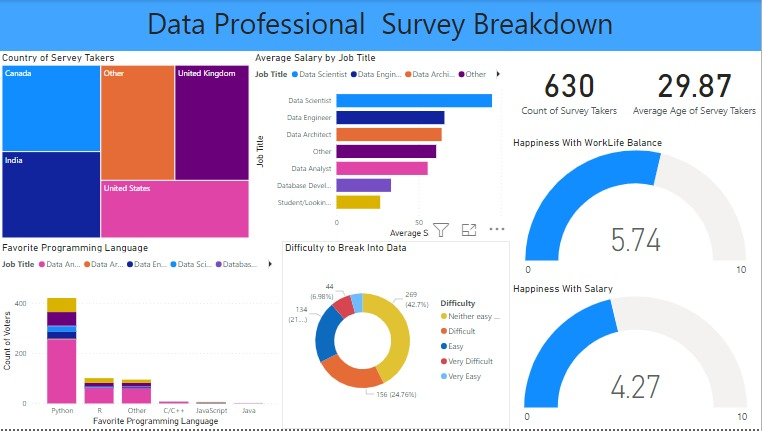

This screenshot's page, from the dashboard's own definition file:
{"tool":"powerbi","page":{"name":"Page 1","canvas":[1280,720],"ordinal":0},"visuals":[{"type":"textbox","box":[0,0,1280,85.7],"z":0},{"type":"card","fields":{"Values":["Count(Data Professional Survey.Unique ID)"]},"box":[858.4,85.7,198.2,122.6],"z":1000},{"type":"card","fields":{"Values":["Avg(Data Professional Survey.Q10 - Current Age)"]},"box":[1056.6,85.7,223.4,122.6],"z":2000},{"type":"barChart","title":"Average Salary by Job Title","fields":{"Category":["Data Professional Survey.Q1 - Which Title Best Fits your Current Role?.1"],"Y":["Avg(Data Professional Survey.Average Salary)"],"Series":["Data Professional Survey.Q1 - Which Title Best Fits your Current Role?.1"]},"box":[425,85.7,433.4,319.2],"z":3000},{"type":"columnChart","title":"Favorite Programming Language","fields":{"Category":["Data Professional Survey.Q5 - Favorite Programming Language.1"],"Y":["CountNonNull(Data Professional Survey.Unique ID)"],"Series":["Data Professional Survey.Q1 - Which Title Best Fits your Current Role?.1"]},"box":[0,404.8,475.4,315.8],"z":4000},{"type":"treemap","title":"Country of Servey Takers","fields":{"Group":["Data Professional Survey.Q11 - Which Country do you live in?.1"],"Values":["Count(Data Professional Survey.Q11 - Which Country do you live in?.1)"]},"box":[0,85.7,425,319.2],"z":5000},{"type":"gauge","title":"Happiness With WorkLife Balance","fields":{"Y":["Avg(Data Professional Survey.Q6 - How Happy are you in your Current Position with the following? (Work/Life Balance))"],"MinValue":["Min(Data Professional Survey.Q6 - How Happy are you in your Current Position with the following? (Work/Life Balance))1"],"MaxValue":["Max(Data Professional Survey.Q6 - How Happy are you in your Current Position with the following? (Work/Life Balance))2"]},"box":[858.4,228.5,421.6,245.2],"z":6000},{"type":"gauge","title":"Happiness With Salary","fields":{"MinValue":["Min(Data Professional Survey.Q6 - How Happy are you in your Current Position with the following? (Salary))"],"MaxValue":["Max(Data Professional Survey.Q6 - How Happy are you in your Current Position with the following? (Salary))"],"Y":["Avg(Data Professional Survey.Q6 - How Happy are you in your Current Position with the following? (Salary))"]},"box":[858.4,473.7,421.6,246.9],"z":7000},{"type":"donutChart","title":"Difficulty to Break Into Data","fields":{"Y":["CountNonNull(Data Professional Survey.Q7 - How difficult was it for you to break into Data?)"],"Category":["Data Professional Survey.Q7 - How difficult was it for you to break into Data?"]},"box":[475.4,404.8,383,315.8],"z":8000}]}

Visuals, with their boxes in screenshot pixels (x1, y1, x2, y2), scaled from the page's 1280x720 canvas onto the 762x431 screenshot:
textbox: x1=0, y1=0, x2=761, y2=51
card - Count(Data Professional Survey.Unique ID): x1=511, y1=51, x2=629, y2=125
card - Avg(Data Professional Survey.Q10 - Current Age): x1=629, y1=51, x2=761, y2=125
"Average Salary by Job Title" barChart: x1=253, y1=51, x2=511, y2=242
"Favorite Programming Language" columnChart: x1=0, y1=242, x2=283, y2=430
"Country of Servey Takers" treemap: x1=0, y1=51, x2=253, y2=242
"Happiness With WorkLife Balance" gauge: x1=511, y1=137, x2=761, y2=284
"Happiness With Salary" gauge: x1=511, y1=284, x2=761, y2=430
"Difficulty to Break Into Data" donutChart: x1=283, y1=242, x2=511, y2=430
